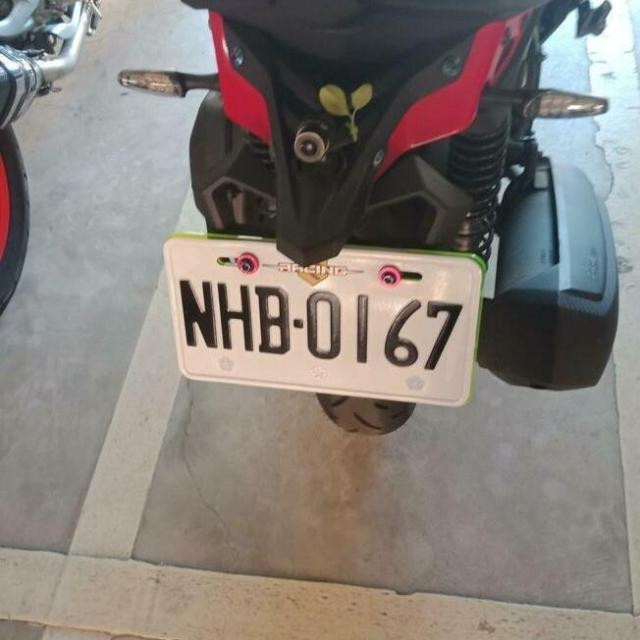W: (156, 224, 491, 415)
